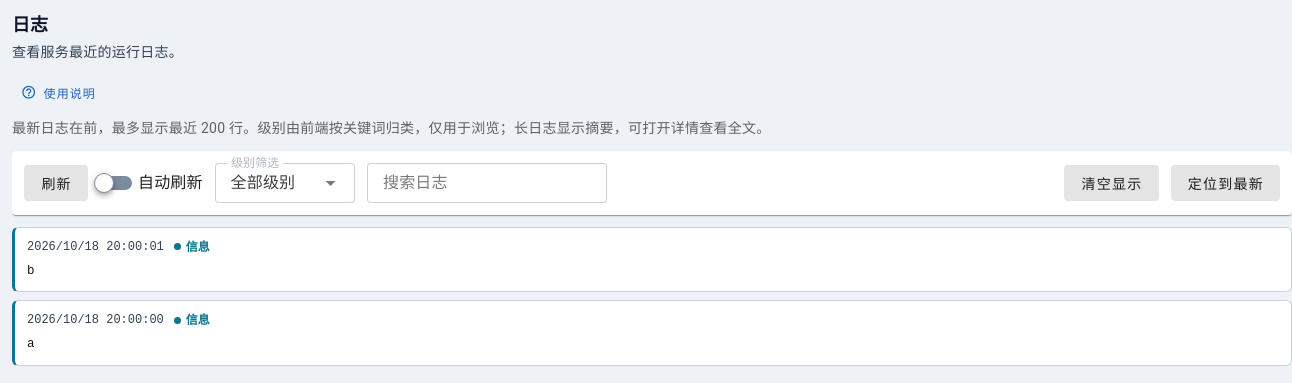
Test case: LogsPage › clear 多条时 reduce 命中 false 分支
Click the button with test id "clear". click: (1111, 183)
box: top-left (1064, 165), bottom-right (1159, 201)
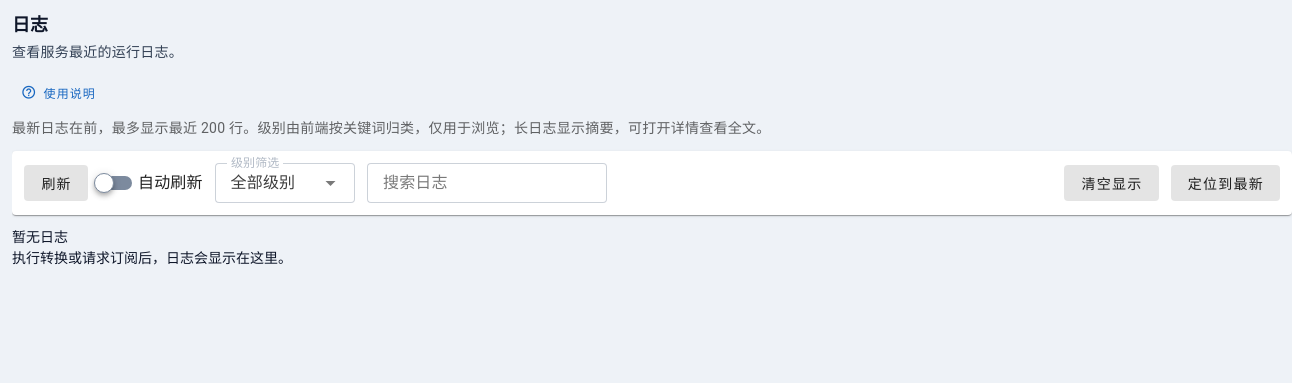
Expected: no elements with test id "log-row" are shown
